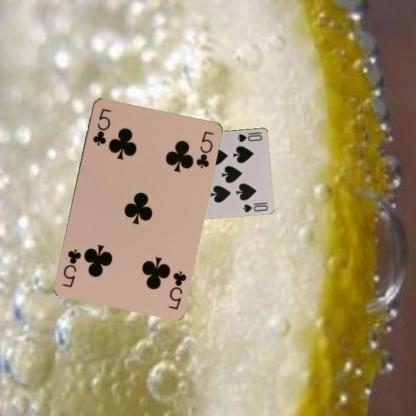10s: (235, 130, 264, 144)
5c: (165, 268, 187, 311), (90, 106, 112, 146)
